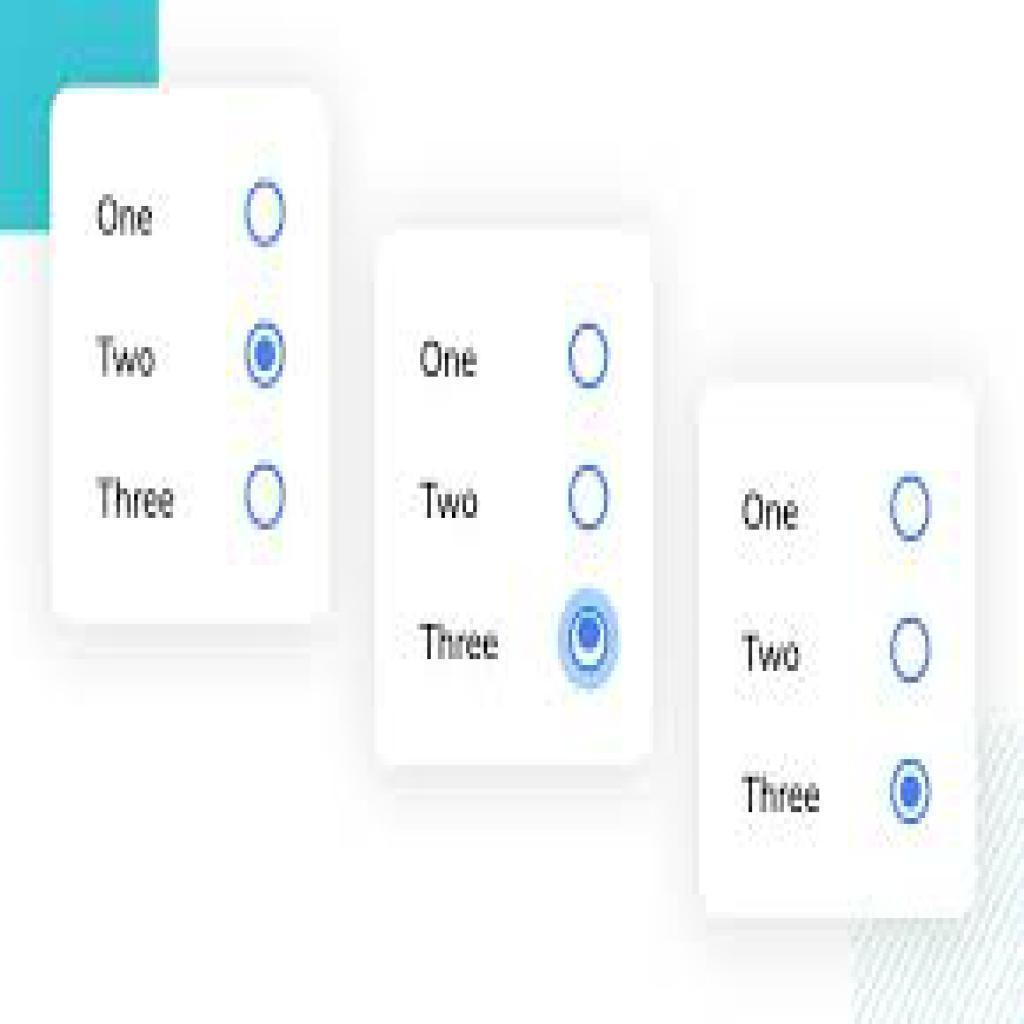label: (414, 615, 505, 671), (91, 470, 182, 523), (739, 771, 821, 824), (735, 623, 811, 680), (89, 190, 160, 246), (95, 329, 162, 387), (409, 473, 485, 524), (413, 336, 482, 384), (736, 486, 800, 537)
radio: (887, 748, 936, 848), (565, 449, 614, 541), (238, 459, 290, 536), (564, 317, 614, 395), (244, 316, 293, 392), (886, 615, 935, 691), (241, 175, 289, 250), (887, 473, 933, 545), (568, 605, 608, 680)
